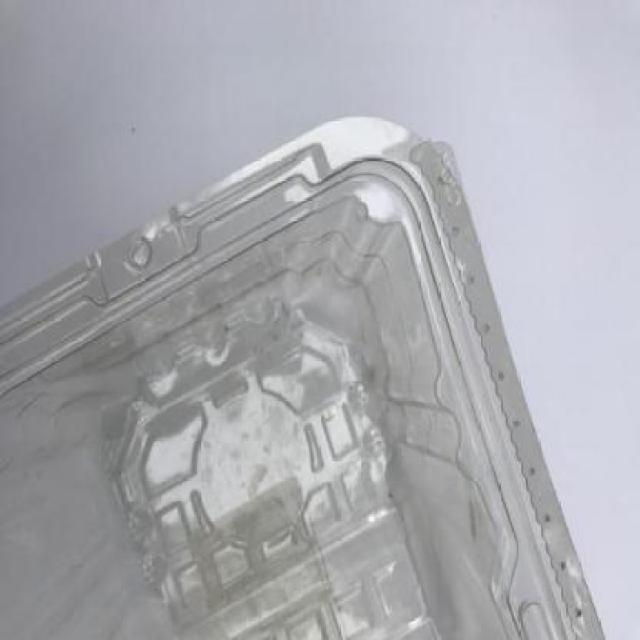PLASTIC: (2, 116, 609, 638)
